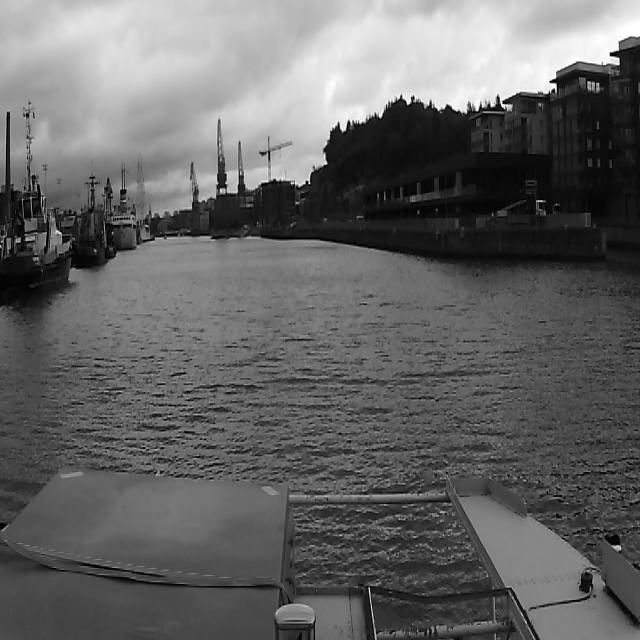ship: (1, 183, 72, 305), (74, 175, 105, 263), (110, 189, 136, 249)
